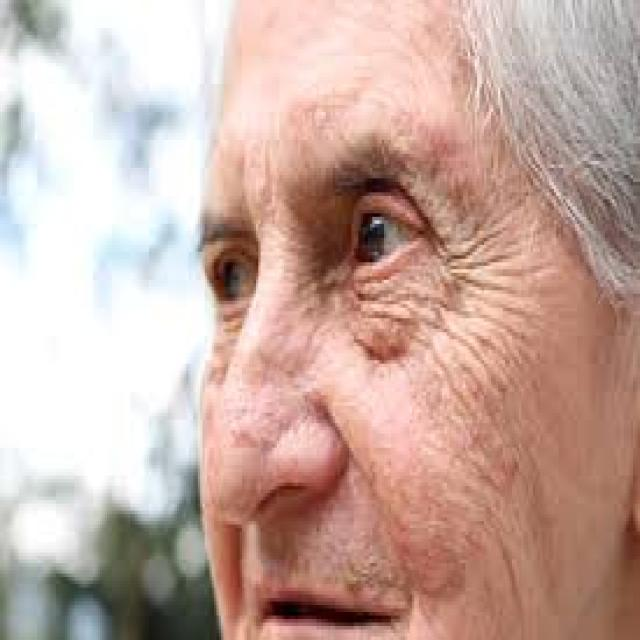Wrinkles: (422, 315, 512, 396), (461, 356, 504, 450), (443, 223, 509, 261), (462, 309, 532, 340), (446, 250, 517, 273), (503, 541, 523, 620), (452, 271, 517, 292), (490, 260, 551, 277), (360, 308, 416, 325)
